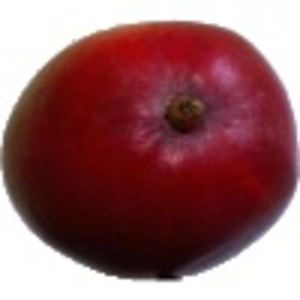manga: (1, 18, 300, 281)
